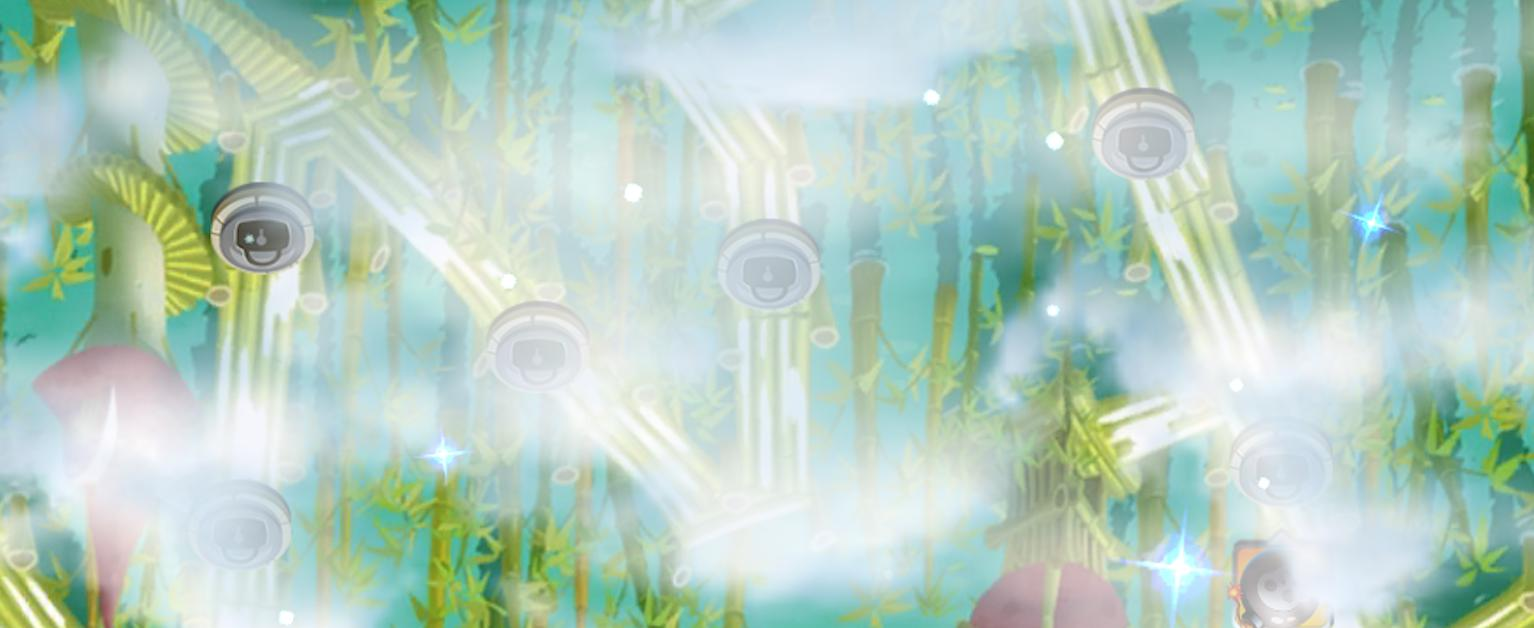ImgView: (1, 1, 1533, 627)
